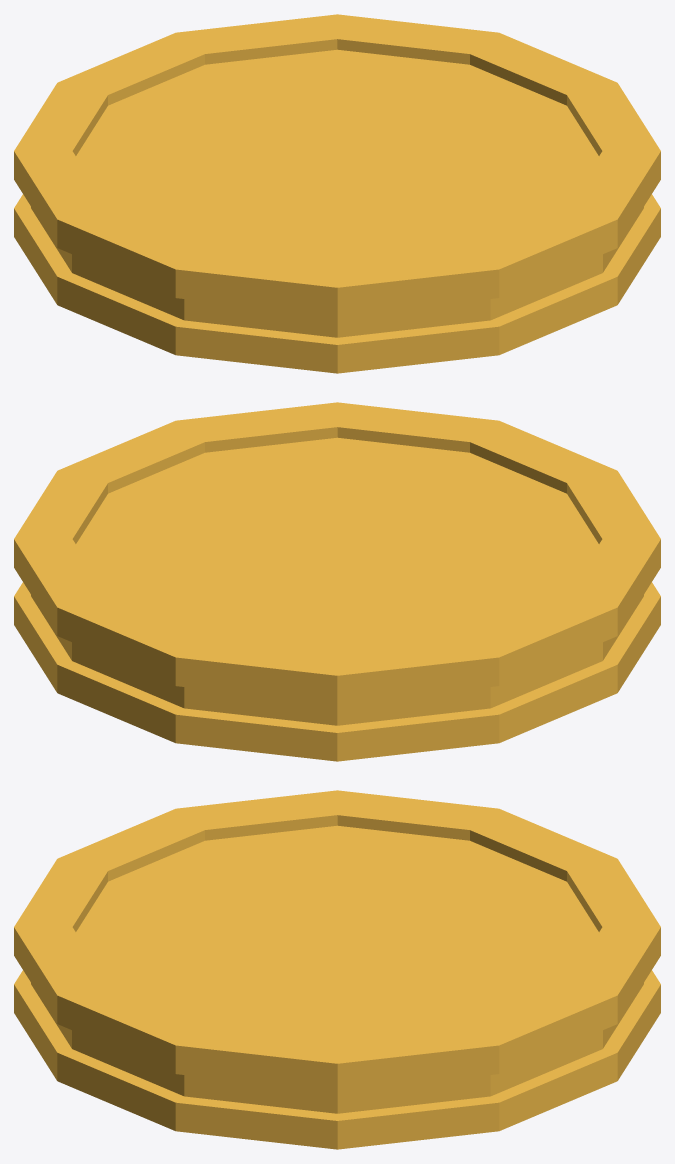
The model's file is coin.glb.
3 renders of one model, top to bottom at view 1: azimuth 30°, elevation 25°; view 2: azimuth 150°, elevation 25°; view 3: azimuth 270°, elevation 25°, orthographic.
Visible parts, largest first — view 1: coin; view 2: coin; view 3: coin.
Boxes of the visible parts, x1,y1,x2,y2 form: coin: [14, 14, 660, 373]; coin: [14, 402, 660, 761]; coin: [14, 790, 660, 1149].
Bounding box in the file's own units: 0.1546 × 0.0226 × 0.1546.
Materials: 1 (1 with a texture image).
